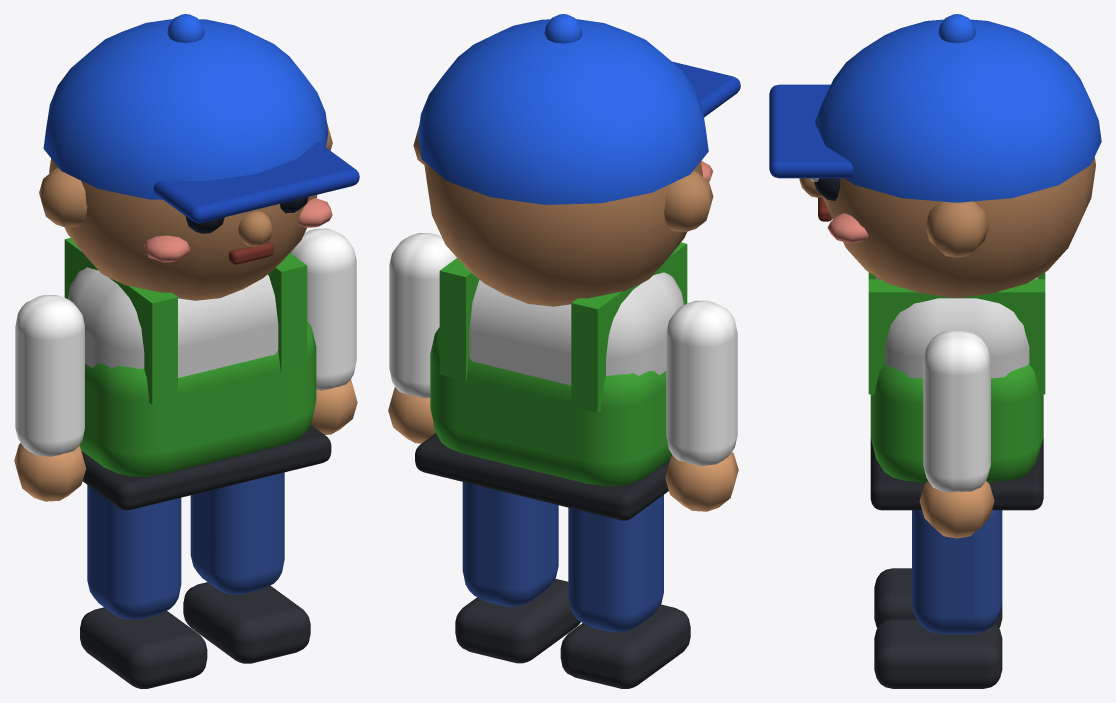
The model's file is person_cashier.glb.
3 renders of one model, left to right at view 1: azimuth 30°, elevation 25°; view 2: azimuth 150°, elevation 25°; view 3: azimuth 270°, elevation 25°, orthographic. The views are drawn at different scales.
Visible parts, largest first — view 1: Torso, Hat, LegL, LegR, ArmL, ArmR; view 2: Torso, Hat, LegL, LegR, ArmL, ArmR; view 3: Torso, Hat, LegR, ArmR, LegL.
Boxes of the visible parts, x1=… form: Torso: x1=39, y1=123, x2=332, y2=510; Hat: x1=43, y1=14, x2=359, y2=223; LegL: x1=80, y1=485, x2=207, y2=688; LegR: x1=183, y1=472, x2=310, y2=663; ArmL: x1=14, y1=295, x2=86, y2=501; ArmR: x1=290, y1=228, x2=357, y2=434; Torso: x1=413, y1=126, x2=713, y2=520; Hat: x1=418, y1=14, x2=740, y2=204; LegL: x1=560, y1=495, x2=690, y2=688; LegR: x1=455, y1=482, x2=580, y2=663; ArmL: x1=665, y1=300, x2=738, y2=511; ArmR: x1=388, y1=233, x2=456, y2=443; Torso: x1=799, y1=157, x2=1095, y2=510; Hat: x1=769, y1=14, x2=1101, y2=202; LegR: x1=874, y1=510, x2=1002, y2=688; ArmR: x1=919, y1=330, x2=994, y2=538; LegL: x1=874, y1=568, x2=1002, y2=628.
Bounding box in the file's own units: 1.04 × 1.86 × 0.885.
